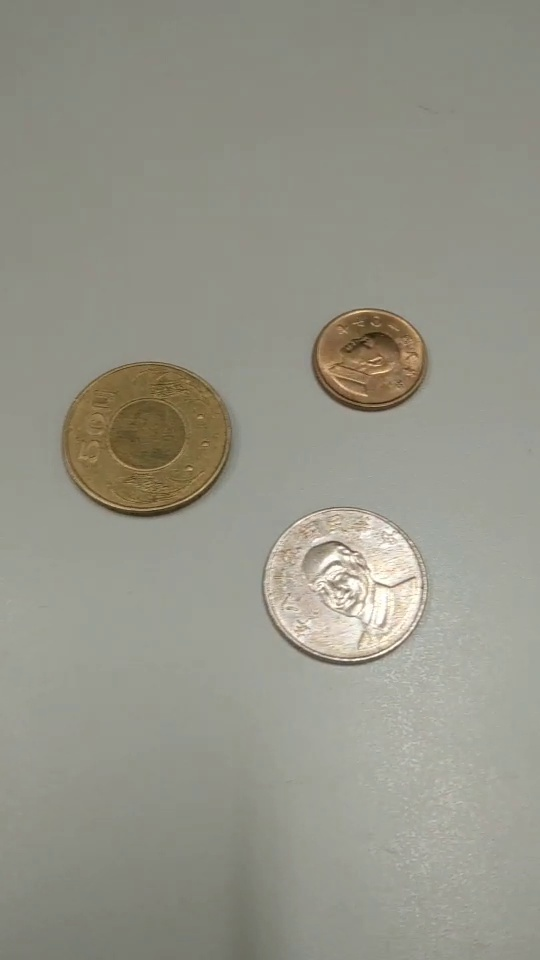NT$ 1: (312, 306, 428, 416)
NT$ 10: (264, 508, 428, 666)
NT$ 50: (61, 362, 234, 517)
